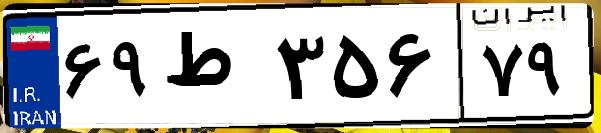3: (270, 28, 330, 110)
5: (330, 28, 385, 110)
6: (385, 28, 445, 110), (57, 26, 110, 100)
7: (475, 38, 525, 113)
9: (525, 38, 570, 115), (110, 28, 158, 98)
ط: (158, 20, 270, 120)
